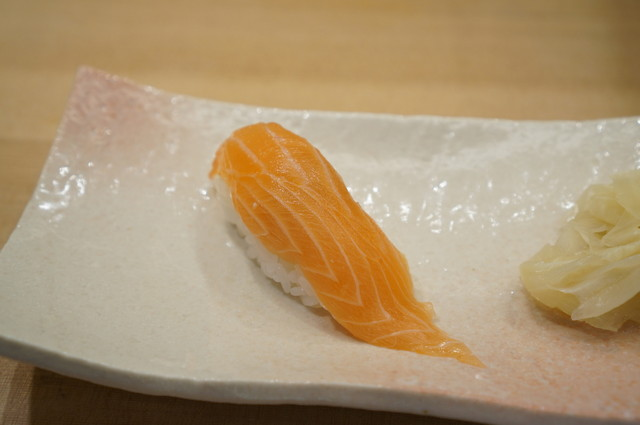salmon: (212, 120, 479, 366)
